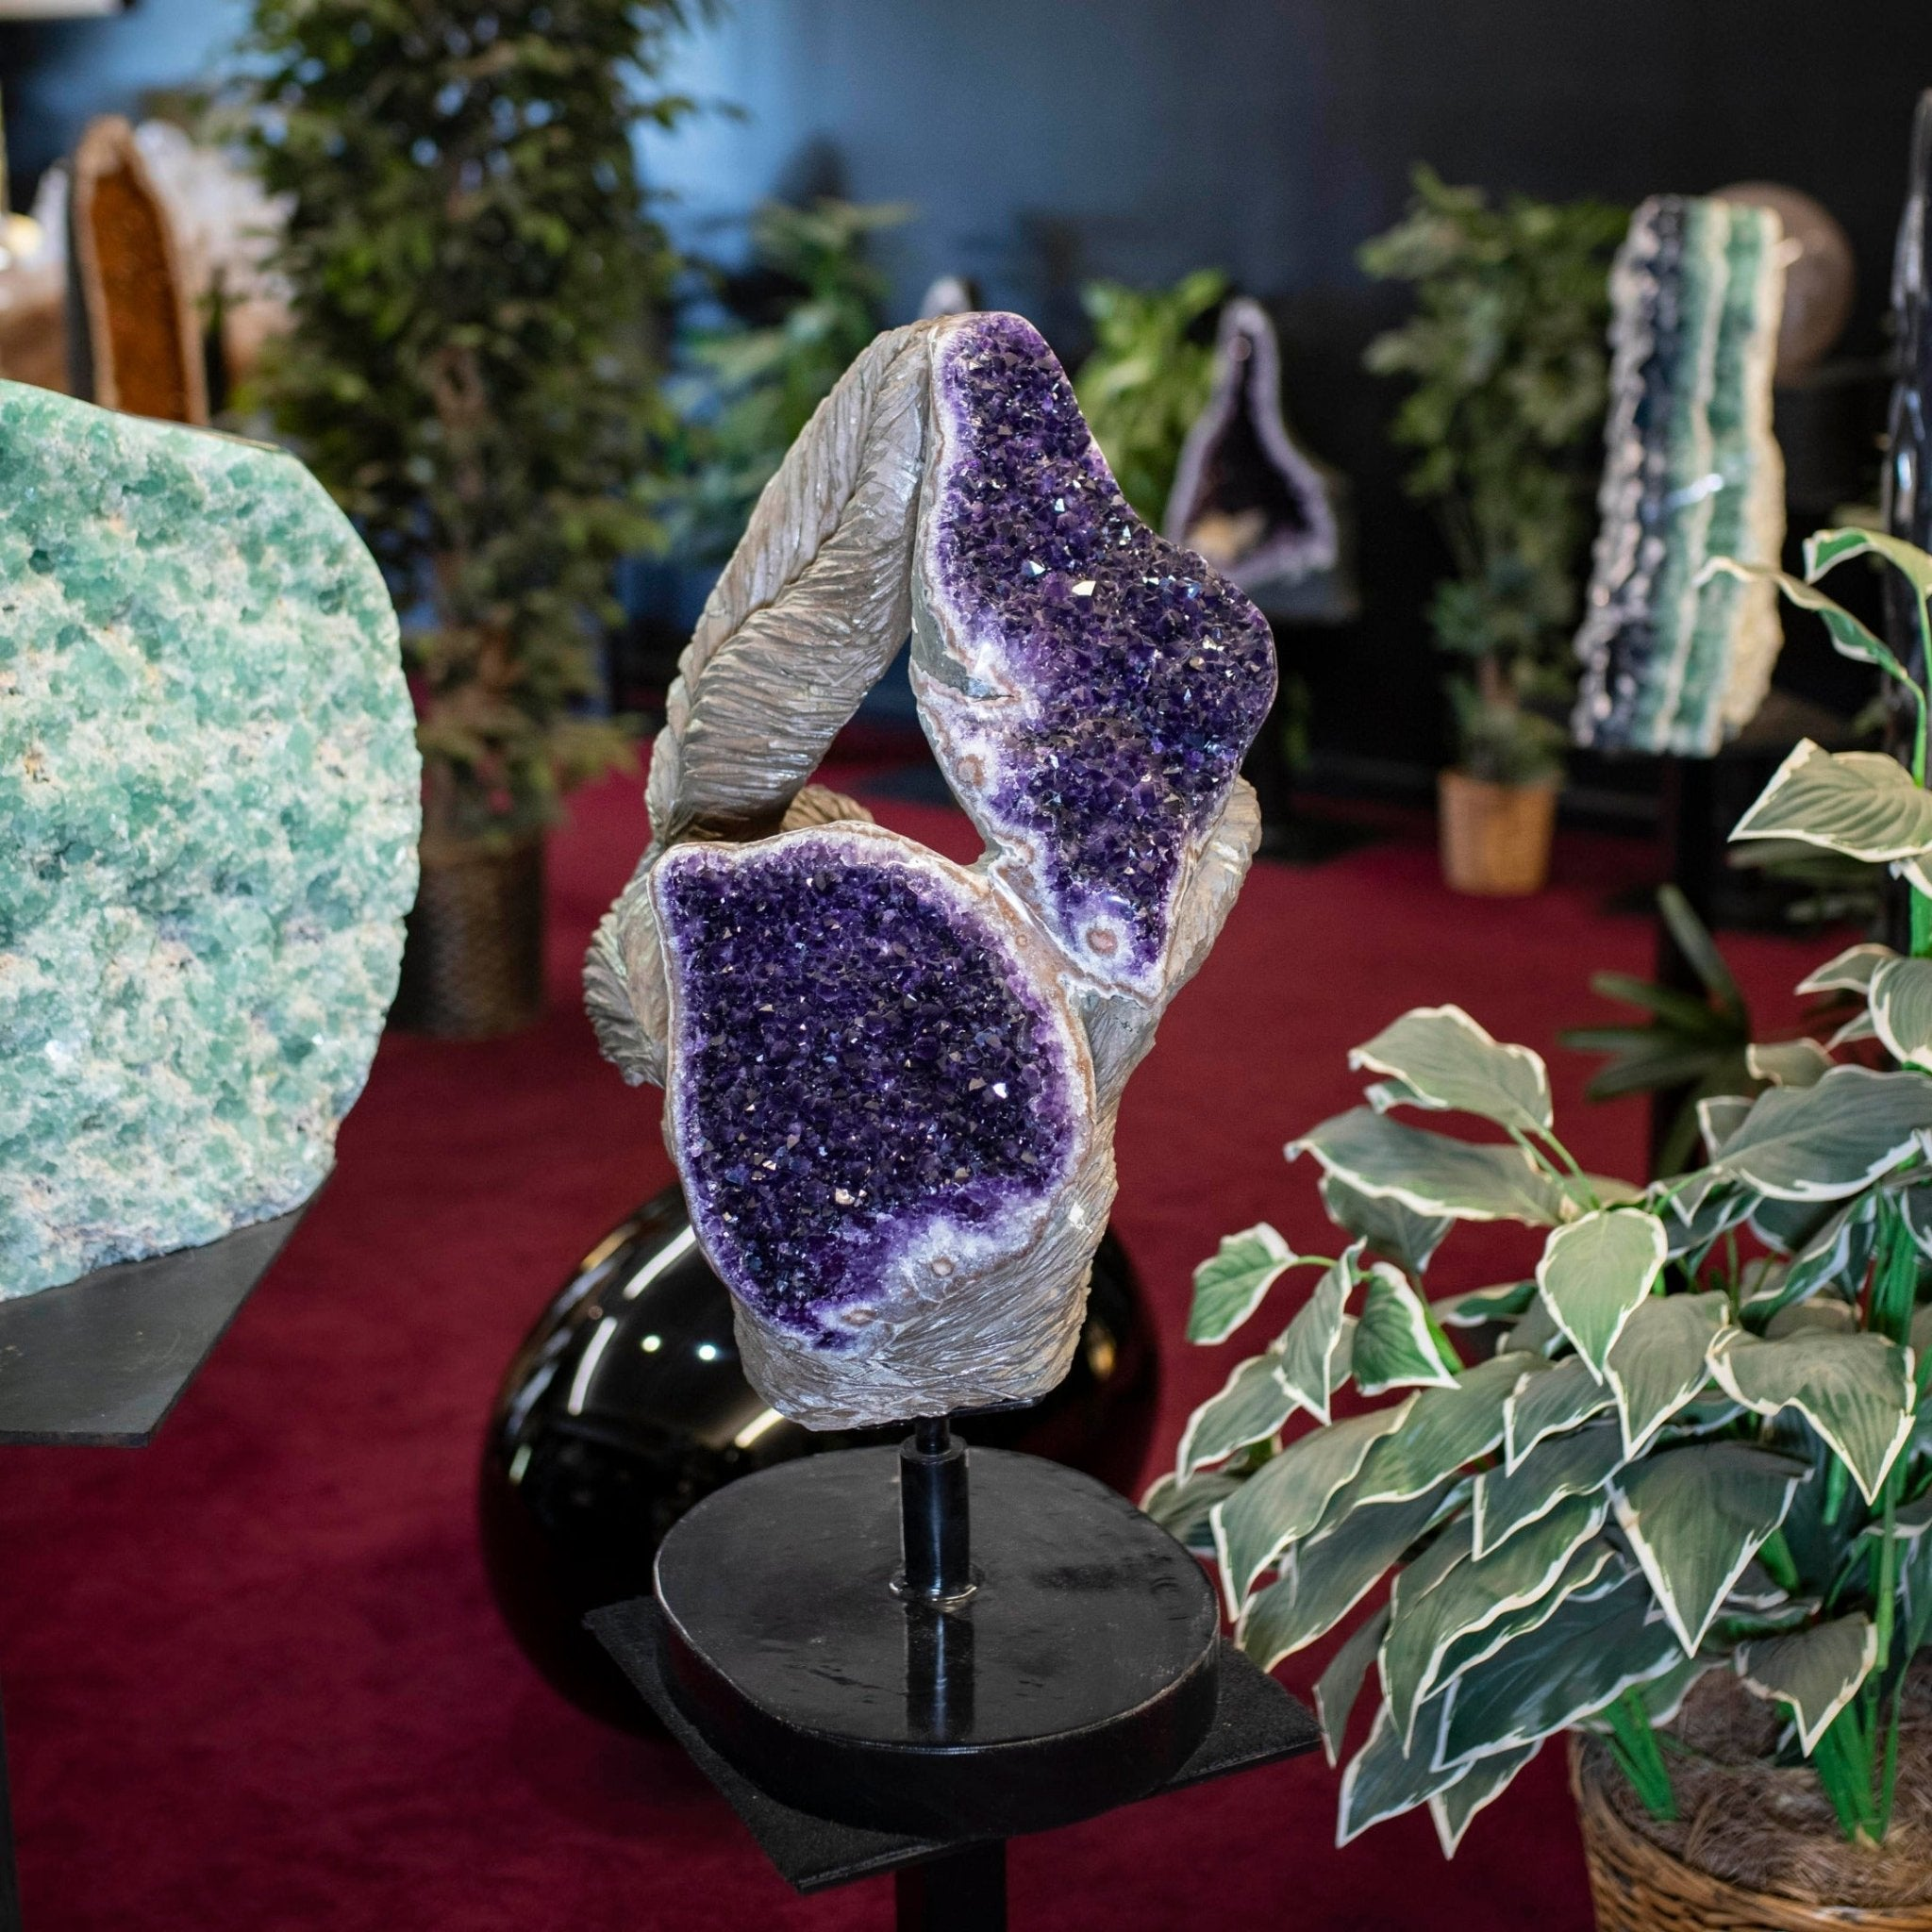Amethyst: (653, 832, 1111, 1433), (918, 306, 1284, 1003)
